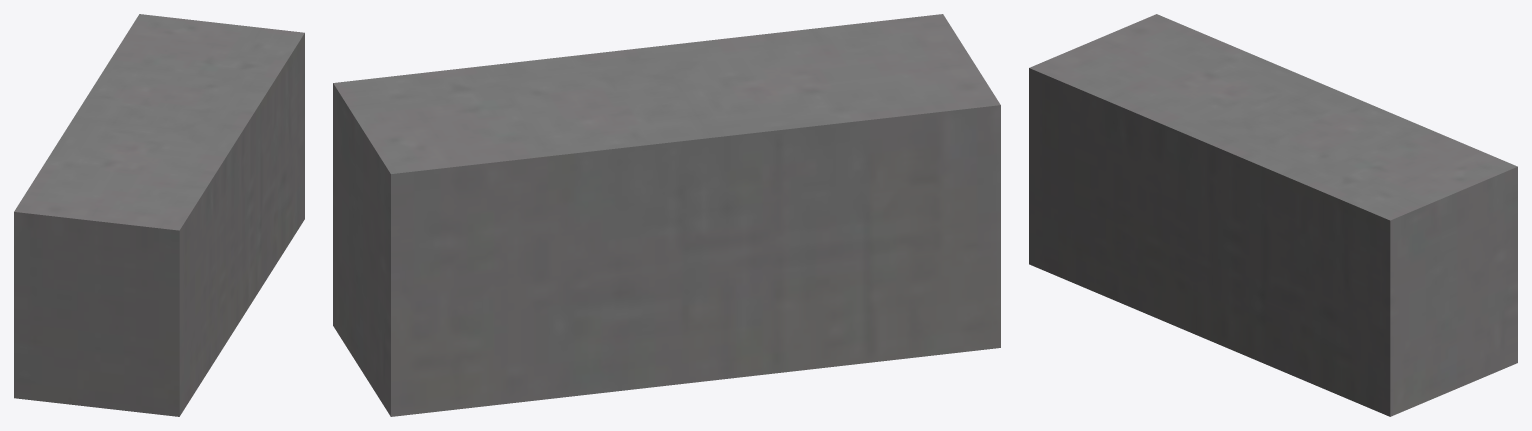
The model's file is frame__front_down_leg.glb.
3 views of the same model, side by side, from view 1: azimuth 30°, elevation 25°; view 2: azimuth 150°, elevation 25°; view 3: azimuth 270°, elevation 25° (orthographic). The views are drawn at different scales.
Visible parts, largest first — view 1: world; view 2: world; view 3: world.
Boxes of the visible parts, left/top/right/bottom form: world: left=14, top=14, right=304, bottom=416; world: left=333, top=14, right=1000, bottom=416; world: left=1029, top=14, right=1517, bottom=416.
Bounding box in the file's own units: 0.1354 × 0.06 × 0.1354.
1 material, 1 textured.
